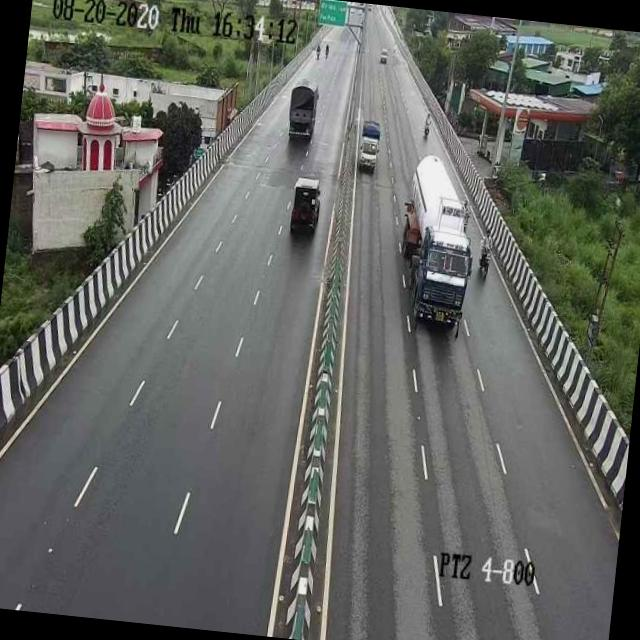car: (280, 168, 328, 245), (352, 110, 386, 176)
